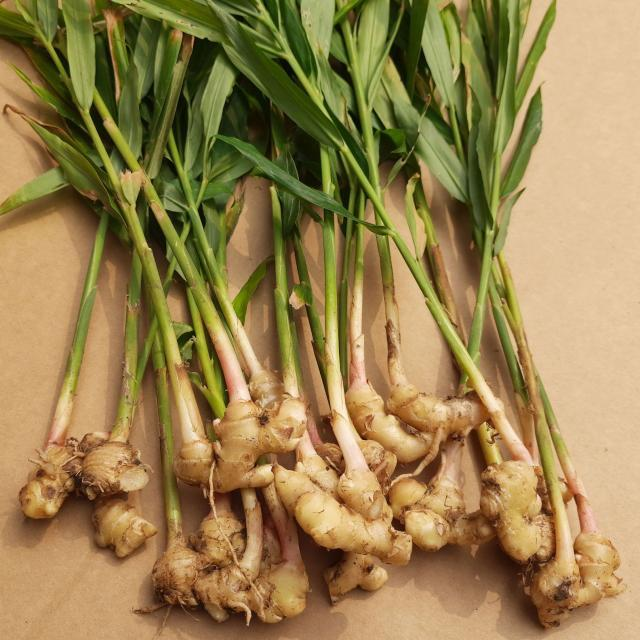ginger: (141, 526, 311, 636), (173, 388, 305, 505), (464, 458, 575, 570), (21, 422, 144, 512)
